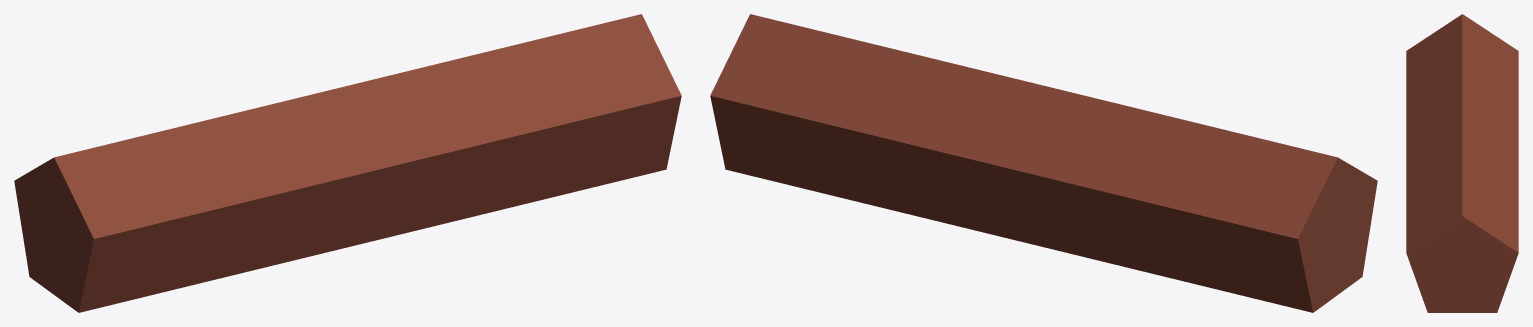
File: stick.glb
3 views of the same model, side by side, from view 1: azimuth 30°, elevation 25°; view 2: azimuth 150°, elevation 25°; view 3: azimuth 270°, elevation 25° (orthographic). The views are drawn at different scales.
Parts seen in each view (by area): view 1: stick; view 2: stick; view 3: stick.
Part boxes in pixels (x1,y1,x2,y2): stick: (14,14,681,312); stick: (710,14,1377,312); stick: (1406,14,1518,312).
Bounding box in the file's own units: 0.625 × 0.1398 × 0.1469.
Materials: 1 (1 with a texture image).
